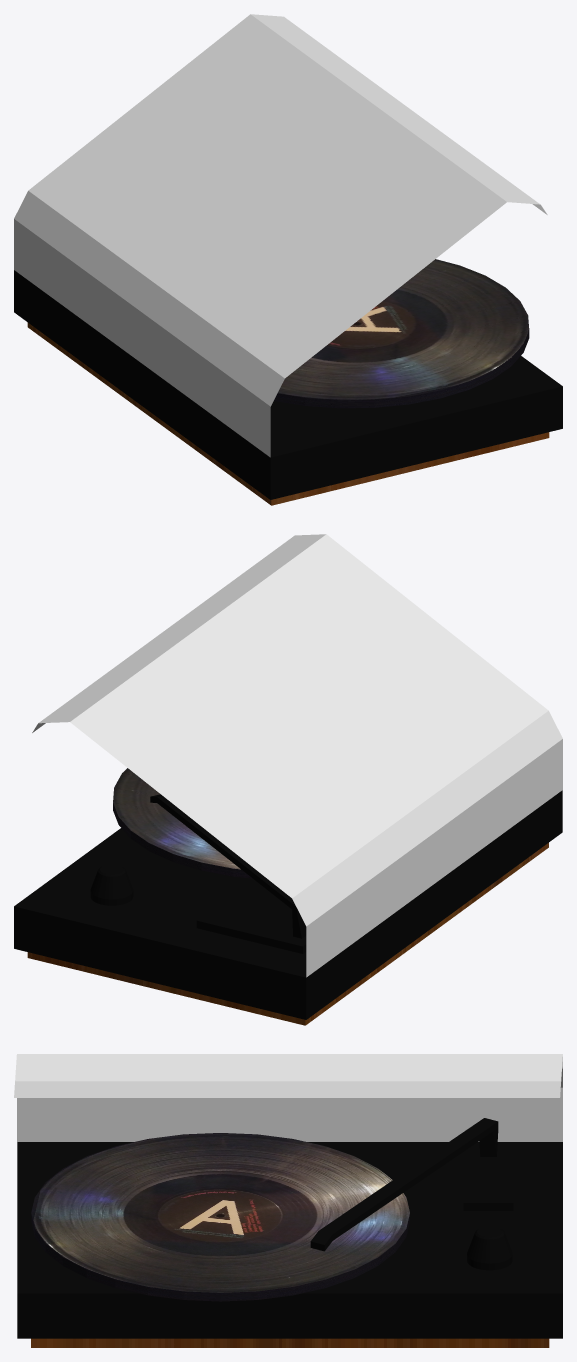
The model's file is turntable solo.glb.
The picture shows the model from 3 angles, top to bottom: view 1: azimuth 30°, elevation 25°; view 2: azimuth 150°, elevation 25°; view 3: azimuth 270°, elevation 25°; orthographic projection. The views are drawn at different scales.
Visible parts, largest first — view 1: Record Player; view 2: Record Player; view 3: Record Player.
Part boxes in pixels (box(x1,y1,x2,y2)): Record Player: box(14, 14, 562, 505); Record Player: box(14, 534, 562, 1025); Record Player: box(14, 1054, 562, 1347).
Bounding box in the file's own units: 1.42 × 1.04 × 1.92.
5 materials, 2 textured.
